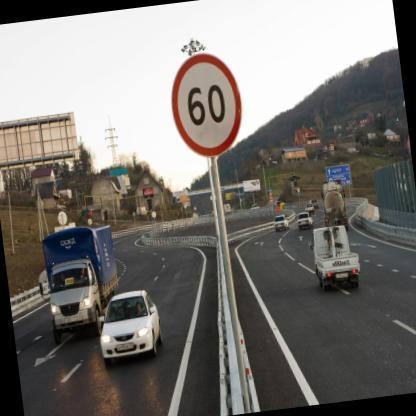road_sign: (172, 54, 241, 156)
